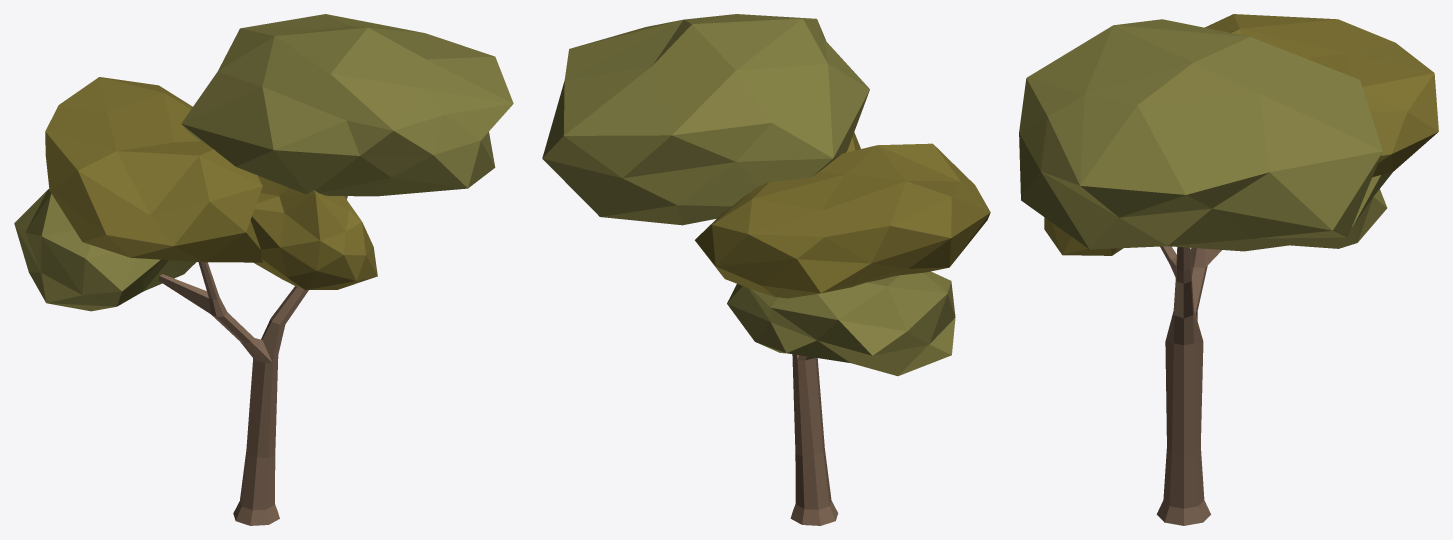
Rendered from enchantedforest_tree_4.fbx.
The picture shows the model from 3 angles, left to right: view 1: azimuth 30°, elevation 25°; view 2: azimuth 150°, elevation 25°; view 3: azimuth 270°, elevation 25°; orthographic projection. The views are drawn at different scales.
Visible parts, largest first — view 1: Icosphere.014, Cylinder.010; view 2: Icosphere.014, Cylinder.010; view 3: Icosphere.014, Cylinder.010.
Boxes of the visible parts, box(x1,y1,x2,y2) form: Icosphere.014: box(14, 14, 513, 311); Cylinder.010: box(158, 196, 347, 525); Icosphere.014: box(542, 14, 990, 376); Cylinder.010: box(790, 354, 838, 525); Icosphere.014: box(1019, 14, 1438, 255); Cylinder.010: box(1156, 246, 1221, 525).
Bounding box in the file's own units: 6.06 × 6.41 × 4.74.
